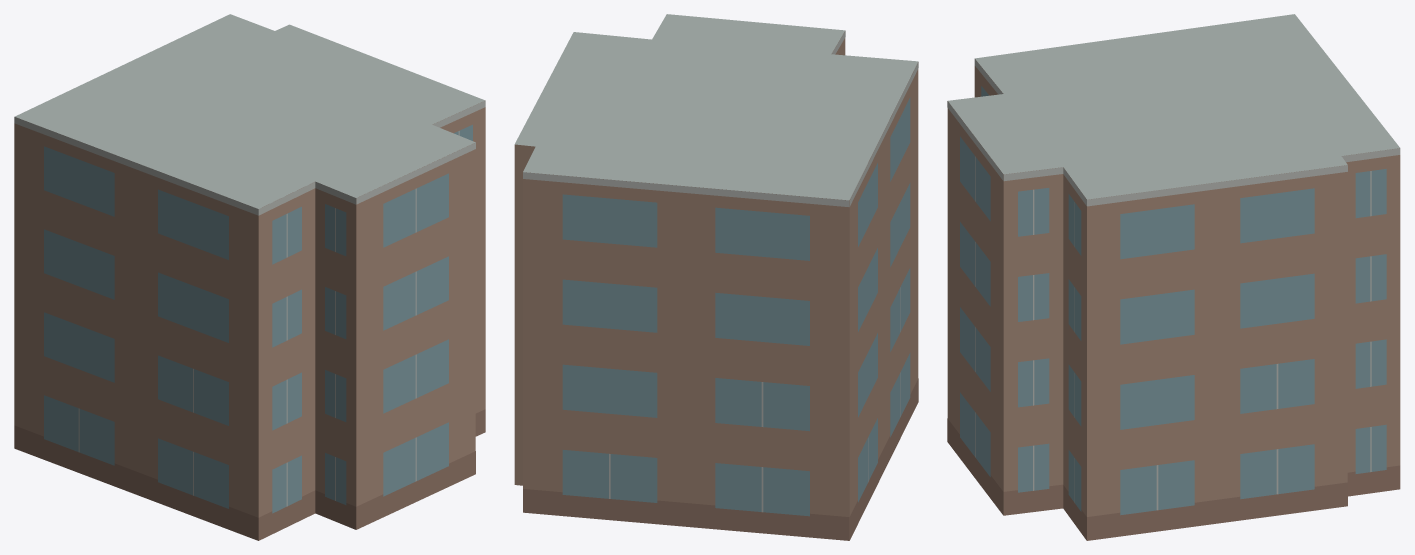
The model's file is survey-upis-32749598.glb.
The picture shows the model from 3 angles, left to right: view 1: azimuth 30°, elevation 25°; view 2: azimuth 150°, elevation 25°; view 3: azimuth 270°, elevation 25°; orthographic projection. The views are drawn at different scales.
Visible parts, largest first — view 1: survey-upis-32749598.tmp; view 2: survey-upis-32749598.tmp; view 3: survey-upis-32749598.tmp.
Part boxes in pixels (x1,y1,x2,y2): survey-upis-32749598.tmp: (14, 14, 485, 540); survey-upis-32749598.tmp: (514, 14, 918, 540); survey-upis-32749598.tmp: (947, 14, 1400, 540).
Bounding box in the file's own units: 14.24 × 12.2 × 14.68.
